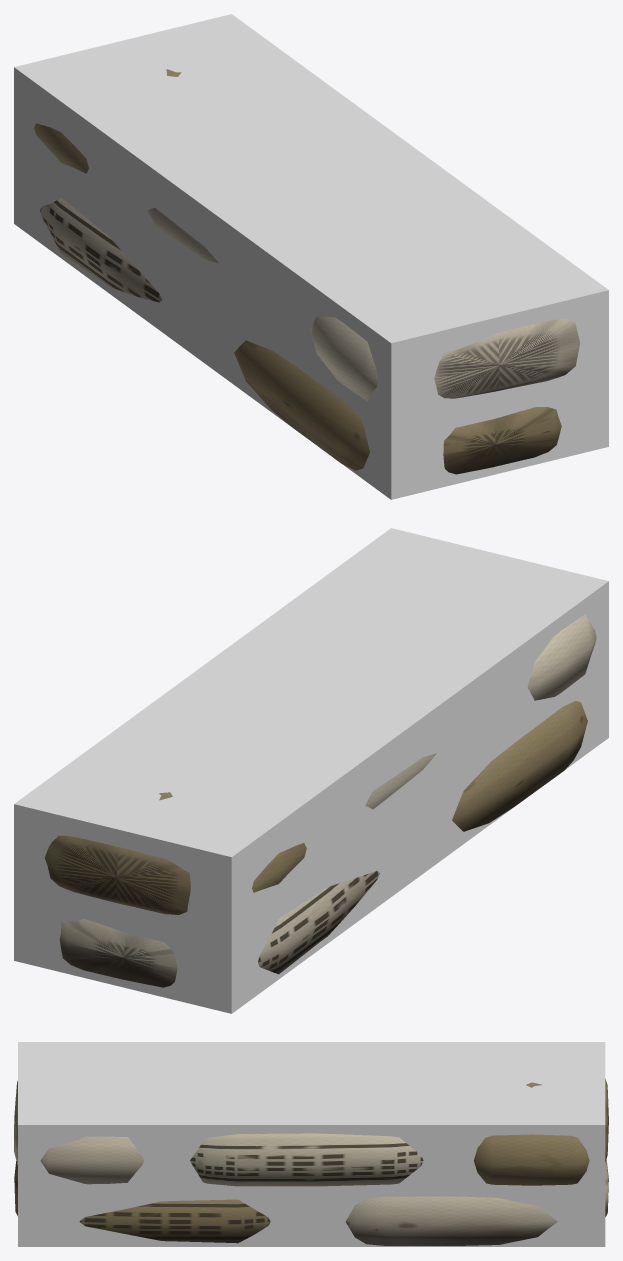
File: Kit_Lot_BagWall_01.glb
3 views of the same model, one above another, from view 1: azimuth 30°, elevation 25°; view 2: azimuth 150°, elevation 25°; view 3: azimuth 270°, elevation 25° (orthographic). The views are drawn at different scales.
Visible parts, largest first — view 1: COL_Kit_Lot_BagWall_01_0, Kit_Lot_BagWall_01_LOD0; view 2: COL_Kit_Lot_BagWall_01_0, Kit_Lot_BagWall_01_LOD0; view 3: COL_Kit_Lot_BagWall_01_0, Kit_Lot_BagWall_01_LOD0.
Part boxes in pixels (box(x1,y1,x2,y2)): COL_Kit_Lot_BagWall_01_0: box(14, 14, 608, 499); Kit_Lot_BagWall_01_LOD0: box(34, 69, 580, 474); COL_Kit_Lot_BagWall_01_0: box(14, 528, 608, 1013); Kit_Lot_BagWall_01_LOD0: box(44, 614, 596, 987); COL_Kit_Lot_BagWall_01_0: box(18, 1042, 605, 1246); Kit_Lot_BagWall_01_LOD0: box(14, 1079, 608, 1245).
Size of what is drawn, in the model's own units: 1.77 by 1.1 by 4.86.
1 material, 1 textured.
